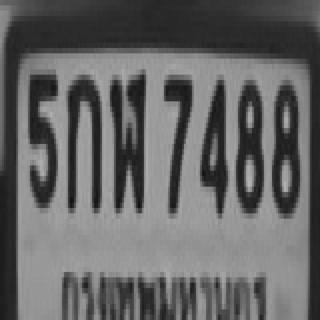A01: (66, 69, 100, 208)
A42: (108, 64, 144, 208)
N04: (198, 75, 226, 213)
N05: (26, 69, 56, 203)
N07: (162, 69, 190, 208)
N08: (270, 75, 298, 213), (234, 75, 262, 208)
